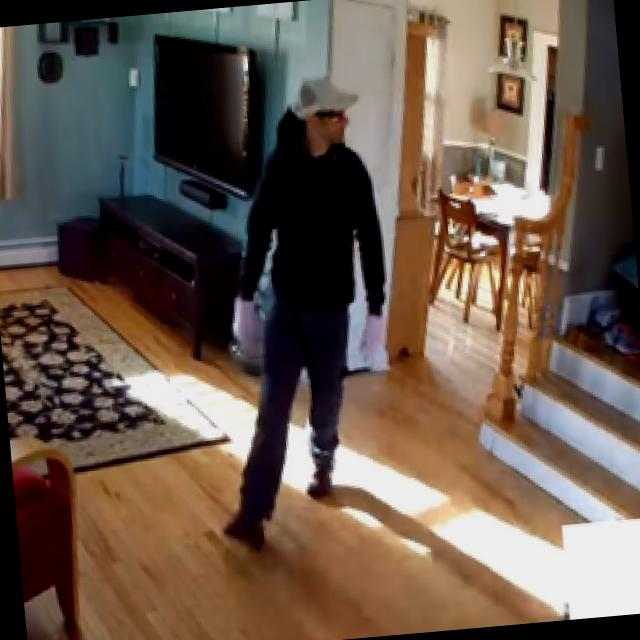person: (184, 70, 409, 552)
